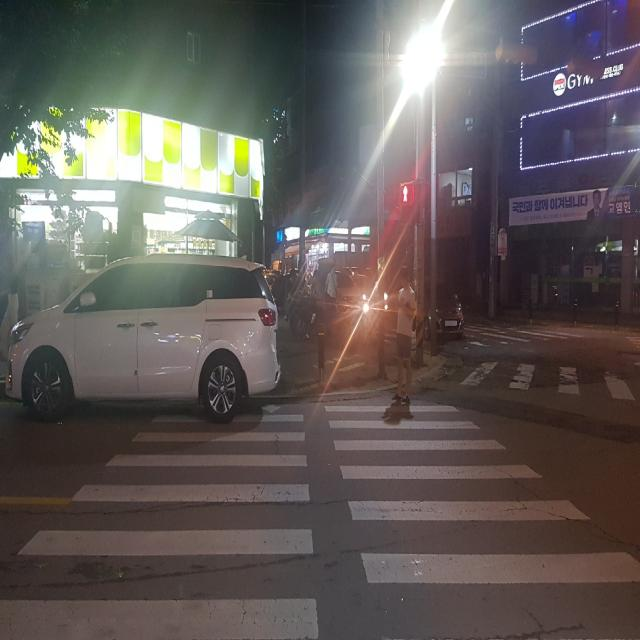빨간불: (396, 180, 415, 244)
횡단보도: (0, 399, 640, 640)
